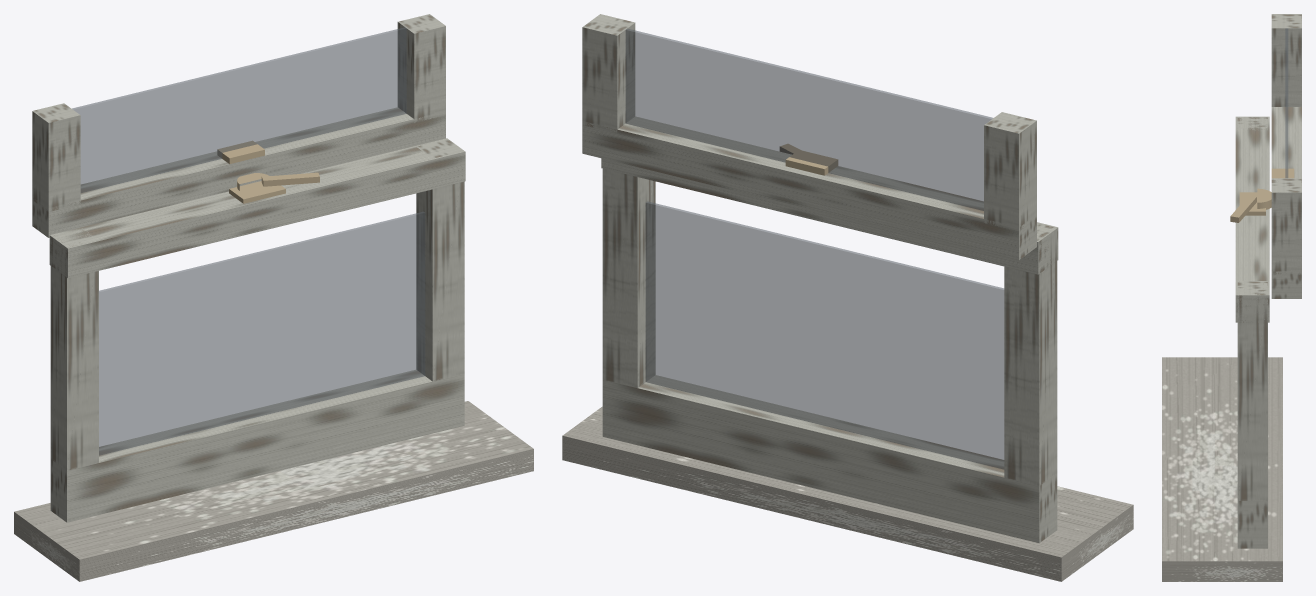
The model's file is window-latch.glb.
3 views of the same model, side by side, from view 1: azimuth 30°, elevation 25°; view 2: azimuth 150°, elevation 25°; view 3: azimuth 270°, elevation 25° (orthographic). The views are drawn at different scales.
Parts seen in each view (by area): view 1: LowerGlass, Sill, UpperGlass, LowerBottomRail, LowerMeetingRail, UpperMeetingRail, LowerStileL, LowerStileR, UpperStileL, UpperStileR, LockPlate, Keeper; view 2: LowerGlass, UpperGlass, LowerBottomRail, Sill, UpperMeetingRail, LowerStileL, LowerStileR, UpperStileR, UpperStileL, LowerMeetingRail, Keeper; view 3: Sill, LowerStileR, LowerMeetingRail, UpperStileR, UpperStileL, UpperMeetingRail, LowerBottomRail, UpperGlass, LowerStileL, Lever, LockPlate, Cam (+1 smaller).
Boxes of the visible parts, x1,y1,x2,y2 form: LowerGlass: (99, 211, 425, 455); Sill: (14, 401, 533, 581); UpperGlass: (72, 27, 406, 192); LowerBottomRail: (50, 370, 464, 522); LowerMeetingRail: (49, 138, 465, 278); UpperMeetingRail: (32, 107, 445, 237); LowerStileL: (50, 228, 98, 470); LowerStileR: (416, 139, 464, 381); UpperStileL: (32, 103, 80, 211); UpperStileR: (397, 14, 445, 122); LockPlate: (229, 181, 285, 203); Keeper: (217, 140, 264, 164); LowerGlass: (645, 201, 1004, 469); UpperGlass: (625, 28, 992, 210); LowerBottomRail: (602, 375, 1057, 543); Sill: (562, 406, 1133, 581); UpperMeetingRail: (582, 116, 1036, 259); LowerStileL: (1004, 223, 1057, 485); LowerStileR: (602, 168, 655, 387); UpperStileR: (582, 14, 635, 133); UpperStileL: (984, 112, 1036, 230); LowerMeetingRail: (601, 158, 1058, 274); Keeper: (785, 150, 838, 175); Sill: (1162, 357, 1282, 581); LowerStileR: (1237, 281, 1267, 500); LowerMeetingRail: (1235, 116, 1269, 322); UpperStileR: (1271, 178, 1301, 274); UpperStileL: (1271, 14, 1301, 106); UpperMeetingRail: (1271, 107, 1301, 298); LowerBottomRail: (1237, 500, 1267, 548); UpperGlass: (1285, 28, 1288, 178); LowerStileL: (1237, 116, 1267, 130); Lever: (1230, 195, 1256, 222); LockPlate: (1239, 192, 1265, 215); Cam: (1257, 188, 1271, 209).
Bounding box in the file's own units: 0.64 × 0.55 × 0.185.
4 materials, 2 textured.
